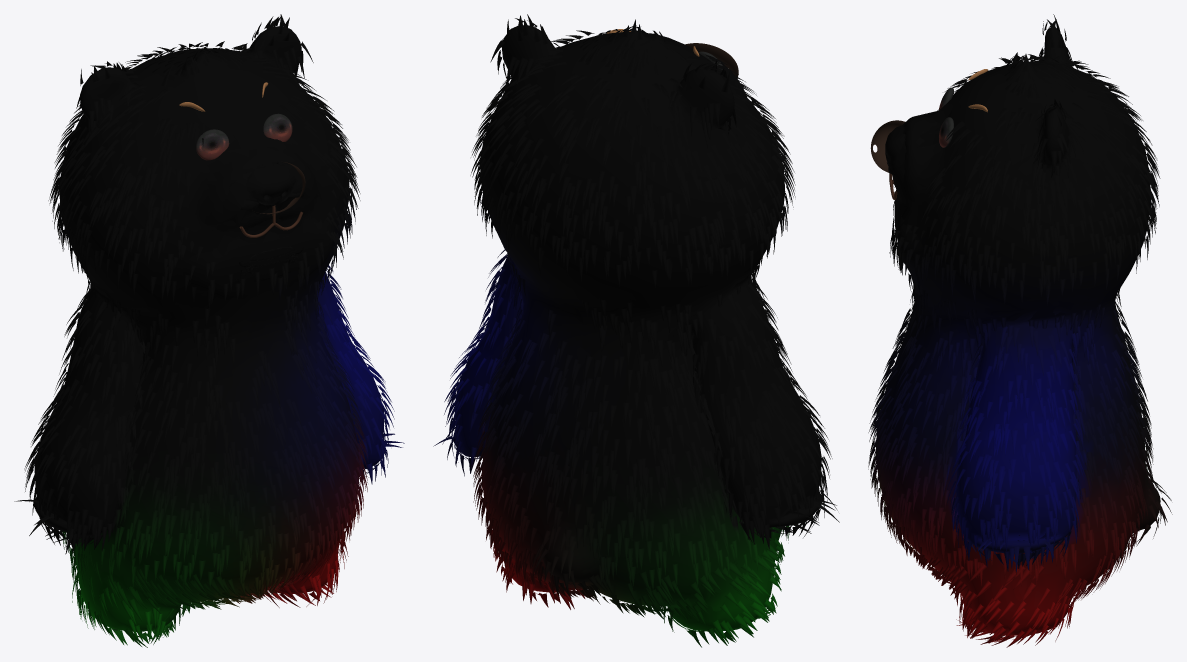
The model's file is bear_table_animated.glb.
3 views of the same model, side by side, from view 1: azimuth 30°, elevation 25°; view 2: azimuth 150°, elevation 25°; view 3: azimuth 270°, elevation 25° (orthographic). The views are drawn at different scales.
Visible parts, largest first — view 1: BoundedShellGroom, LayeredCurvedGroom, Body, BrownBear_Normal; view 2: BoundedShellGroom, LayeredCurvedGroom, Body; view 3: BoundedShellGroom, LayeredCurvedGroom, Body, Soft nose and inset nostrils, BrownBear_Normal.
Boxes of the visible parts, x1,y1,x2,y2 form: BoundedShellGroom: (33,26,384,631); LayeredCurvedGroom: (14,14,404,647); Body: (35,30,377,629); BrownBear_Normal: (196,113,292,160); BoundedShellGroom: (453,25,822,631); LayeredCurvedGroom: (433,14,839,647); Body: (455,26,819,621); BoundedShellGroom: (876,27,1160,635); LayeredCurvedGroom: (868,14,1172,647); Body: (877,38,1152,608); Soft nose and inset nostrils: (870,120,905,172); BrownBear_Normal: (939,87,953,147).
Size of the model in its own units: 1.76 by 2.57 by 1.3.
7 materials, 4 textured.
